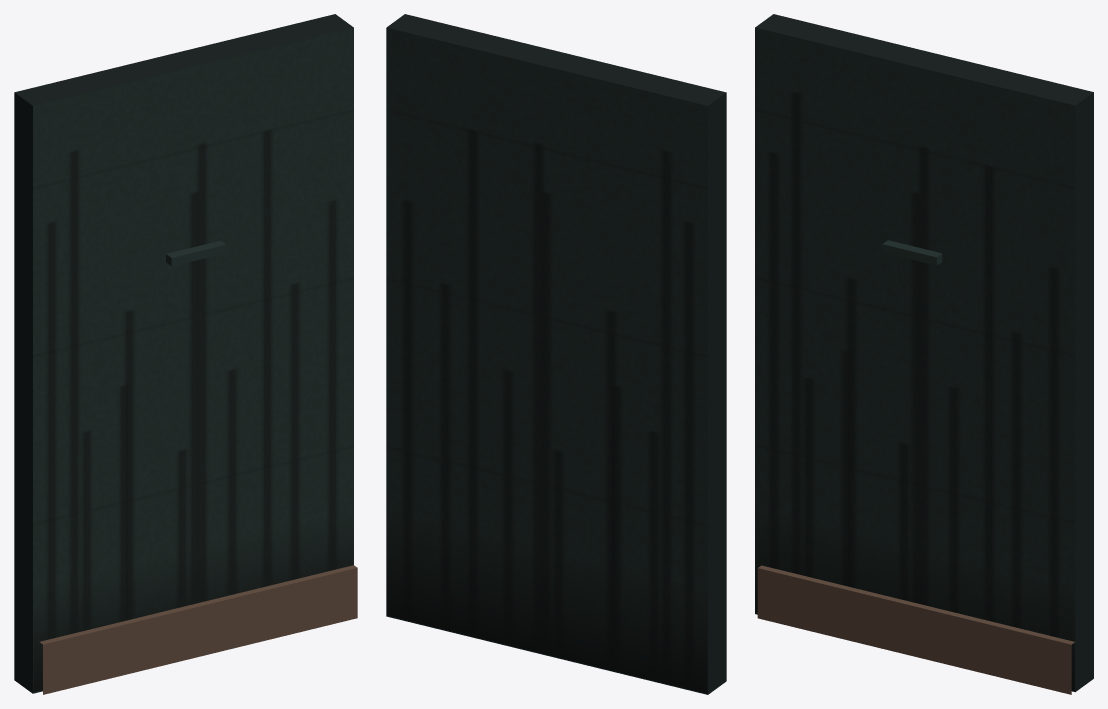
File: SM_Machine_Wall_CornerIn_Lower_200x350.fbx
The picture shows the model from 3 angles, left to right: view 1: azimuth 30°, elevation 25°; view 2: azimuth 150°, elevation 25°; view 3: azimuth 330°, elevation 25°; orthographic projection.
Parts seen in each view (by area): view 1: SM_Machine_Wall_CornerIn_Lower_200x350.001; view 2: SM_Machine_Wall_CornerIn_Lower_200x350.001; view 3: SM_Machine_Wall_CornerIn_Lower_200x350.001.
Part boxes in pixels (x1,y1,x2,y2): SM_Machine_Wall_CornerIn_Lower_200x350.001: [14, 14, 357, 694]; SM_Machine_Wall_CornerIn_Lower_200x350.001: [386, 14, 726, 694]; SM_Machine_Wall_CornerIn_Lower_200x350.001: [755, 14, 1093, 694].
Bounding box in the file's own units: 2 × 3.5 × 0.26.
